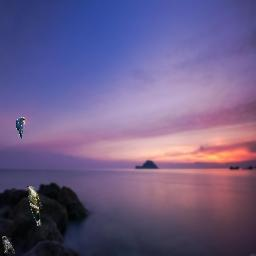Crow: (2, 236, 15, 254)
Cuckoo: (27, 186, 42, 226)
Swallow: (16, 117, 26, 139)
